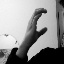c: (26, 6, 48, 40)
